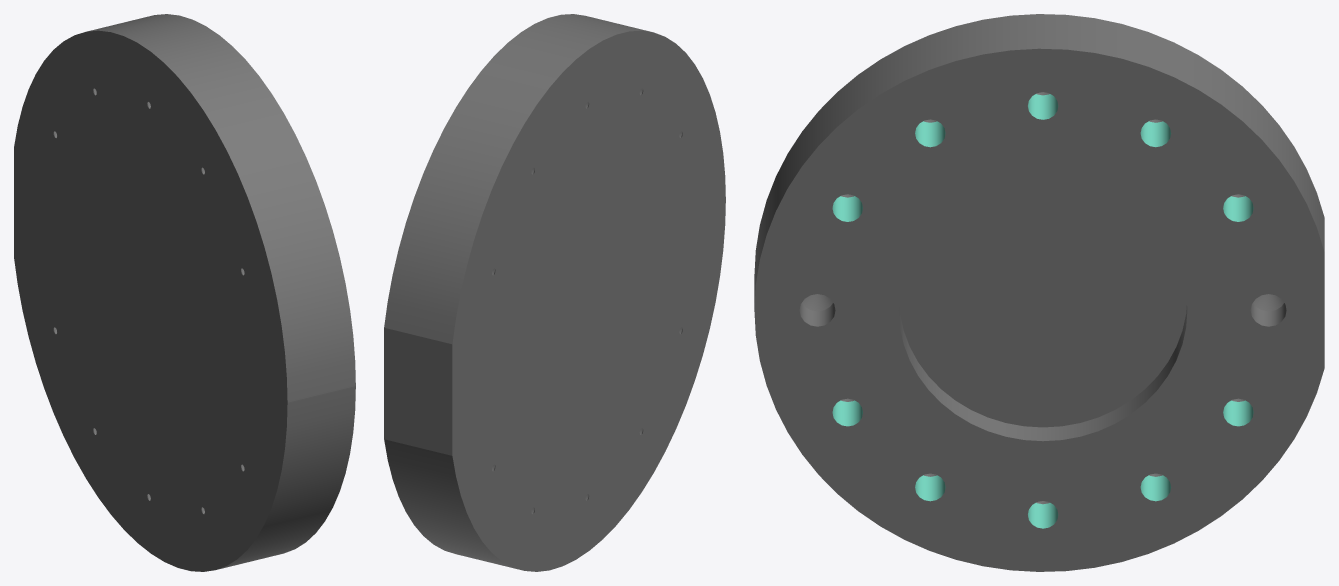
3 renders of one model, left to right at view 1: azimuth 30°, elevation 25°; view 2: azimuth 150°, elevation 25°; view 3: azimuth 270°, elevation 25°, orthographic. The views are drawn at different scales.
Visible parts, largest first — view 1: Mesh_0; view 2: Mesh_0; view 3: Mesh_0.
Boxes of the visible parts, x1,y1,x2,y2 form: Mesh_0: (14,14,355,571); Mesh_0: (384,14,725,571); Mesh_0: (754,14,1324,571).
Size of the model in its own units: 0.0228 by 0.16 by 0.158.
